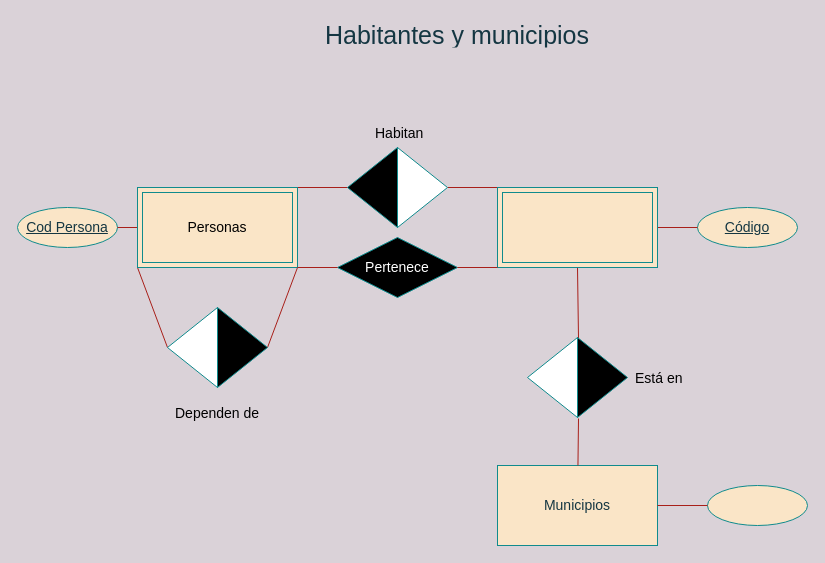
Image size: 825x563. Some labels were removed from this diagram. The box of each missing label's shape, as (x1, y1, x2, y2) in pixels:
Cod Municipio: (706, 484, 808, 526)
Viviendas: (496, 186, 658, 268)
